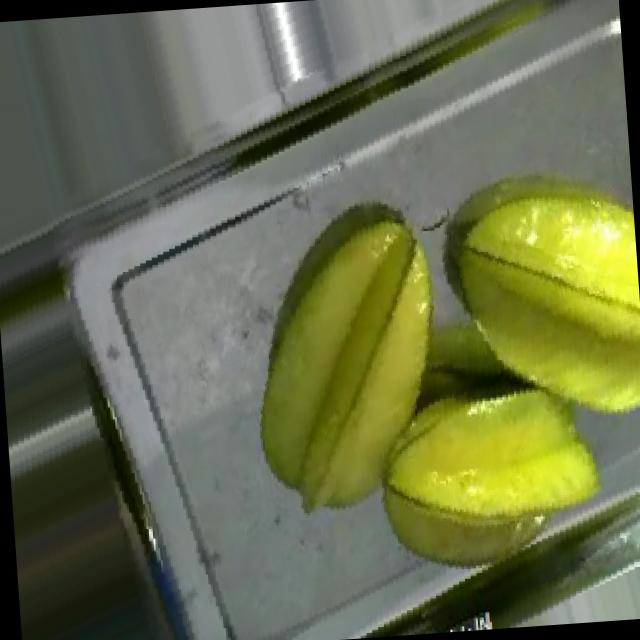fruit: (201, 178, 497, 546), (328, 328, 637, 626), (393, 122, 640, 468)
